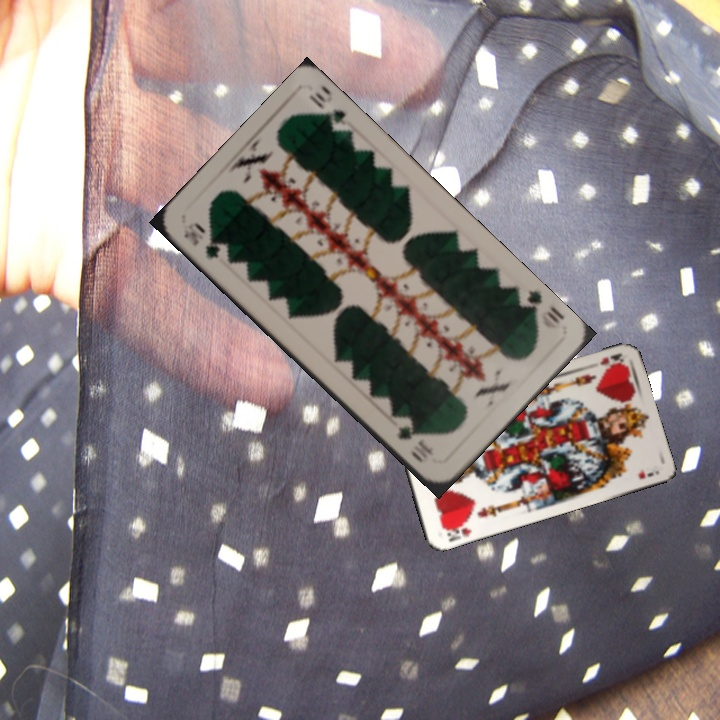G10: (514, 285, 567, 326), (179, 222, 223, 262)
HK: (438, 518, 474, 544), (597, 349, 626, 368)
